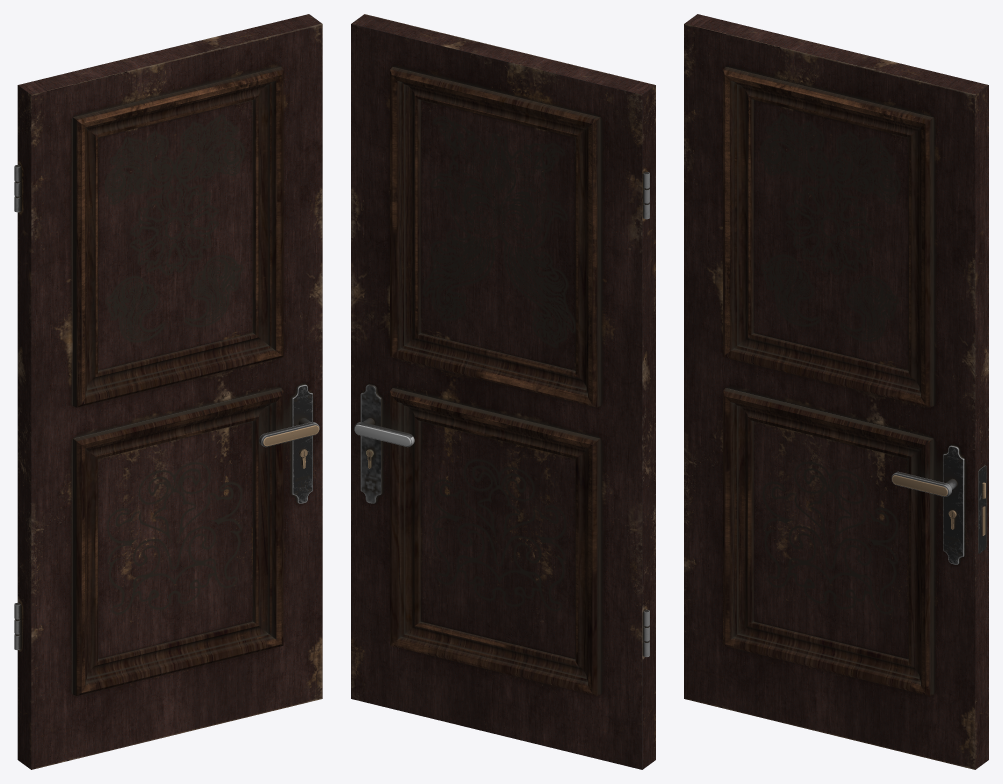
Rendered from Doors.gltf.
3 views of the same model, side by side, from view 1: azimuth 30°, elevation 25°; view 2: azimuth 150°, elevation 25°; view 3: azimuth 330°, elevation 25° (orthographic).
Visible parts, largest first — view 1: Door_Wooden; view 2: Door_Wooden; view 3: Door_Wooden.
Part boxes in pixels (<box>): Door_Wooden: <box>14,14,322,769</box>; Door_Wooden: <box>351,14,655,769</box>; Door_Wooden: <box>684,14,988,769</box>.
Bounding box in the file's own units: 1.05 × 2.26 × 0.2303.
1 material, 1 textured.
